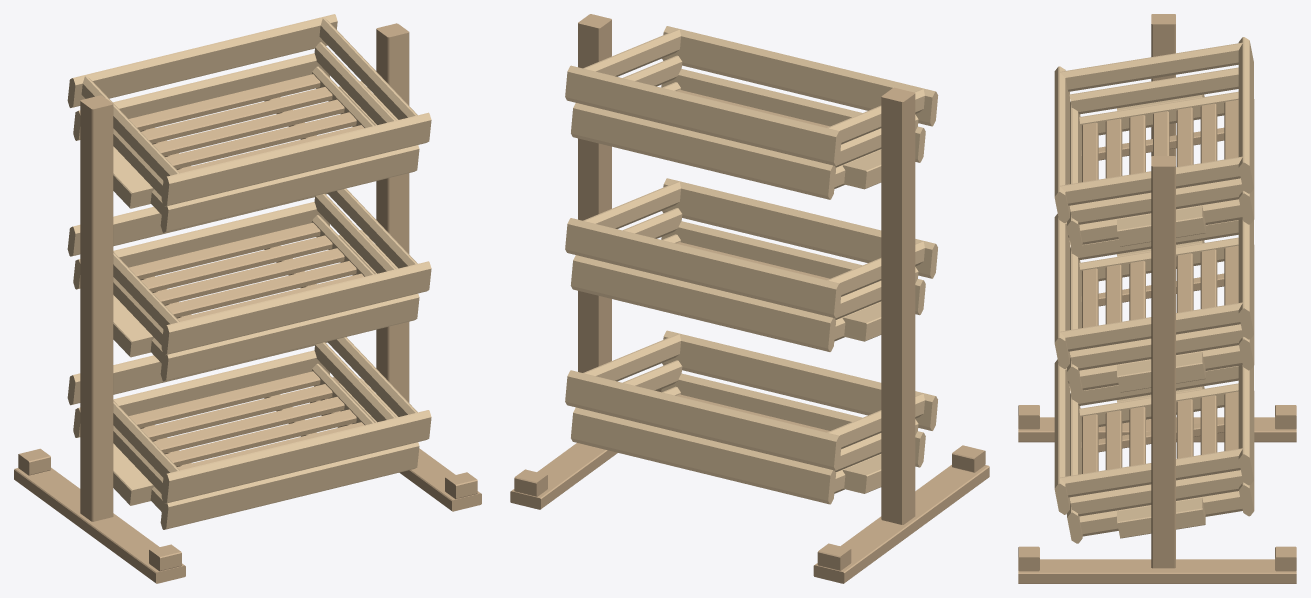
File: verdurero.fbx
3 renders of one model, left to right at view 1: azimuth 30°, elevation 25°; view 2: azimuth 150°, elevation 25°; view 3: azimuth 270°, elevation 25°, orthographic. The views are drawn at different scales.
Visible parts, largest first — view 1: Verdurero_Cajon_Superior_Paredes, Verdurero_Cajon_Medio_Paredes, Verdurero_Cajon_Inferior_Paredes, Verdurero_Postes, Verdurero_Cajon_Inferior_Fondo, Verdurero_Cajon_Superior_Fondo, Verdurero_Cajon_Medio_Fondo, Verdurero_Patas; view 2: Verdurero_Cajon_Superior_Paredes, Verdurero_Cajon_Inferior_Paredes, Verdurero_Cajon_Medio_Paredes, Verdurero_Postes, Verdurero_Patas; view 3: Verdurero_Cajon_Superior_Paredes, Verdurero_Cajon_Medio_Paredes, Verdurero_Cajon_Inferior_Paredes, Verdurero_Postes, Verdurero_Patas, Verdurero_Cajon_Superior_Fondo, Verdurero_Cajon_Inferior_Fondo, Verdurero_Cajon_Medio_Fondo.
Part boxes in pixels (<box>): Verdurero_Cajon_Superior_Paredes: <box>67,14,431,232</box>; Verdurero_Cajon_Medio_Paredes: <box>67,188,431,381</box>; Verdurero_Cajon_Inferior_Paredes: <box>67,337,431,529</box>; Verdurero_Postes: <box>80,23,409,521</box>; Verdurero_Cajon_Inferior_Fondo: <box>129,371,364,470</box>; Verdurero_Cajon_Superior_Fondo: <box>129,74,364,173</box>; Verdurero_Cajon_Medio_Fondo: <box>129,222,364,321</box>; Verdurero_Patas: <box>14,377,481,583</box>; Verdurero_Cajon_Superior_Paredes: <box>565,26,938,199</box>; Verdurero_Cajon_Inferior_Paredes: <box>565,330,937,504</box>; Verdurero_Cajon_Medio_Paredes: <box>565,178,937,351</box>; Verdurero_Postes: <box>578,14,915,524</box>; Verdurero_Patas: <box>510,389,989,583</box>; Verdurero_Cajon_Superior_Paredes: <box>1054,37,1254,251</box>; Verdurero_Cajon_Medio_Paredes: <box>1054,214,1254,397</box>; Verdurero_Cajon_Inferior_Paredes: <box>1054,359,1254,543</box>; Verdurero_Postes: <box>1151,14,1175,568</box>; Verdurero_Patas: <box>1018,405,1296,583</box>; Verdurero_Cajon_Superior_Fondo: <box>1081,99,1238,182</box>; Verdurero_Cajon_Inferior_Fondo: <box>1081,391,1238,473</box>; Verdurero_Cajon_Medio_Fondo: <box>1081,245,1238,327</box>.
Bounding box in the file's own units: 119 × 148 × 90.
